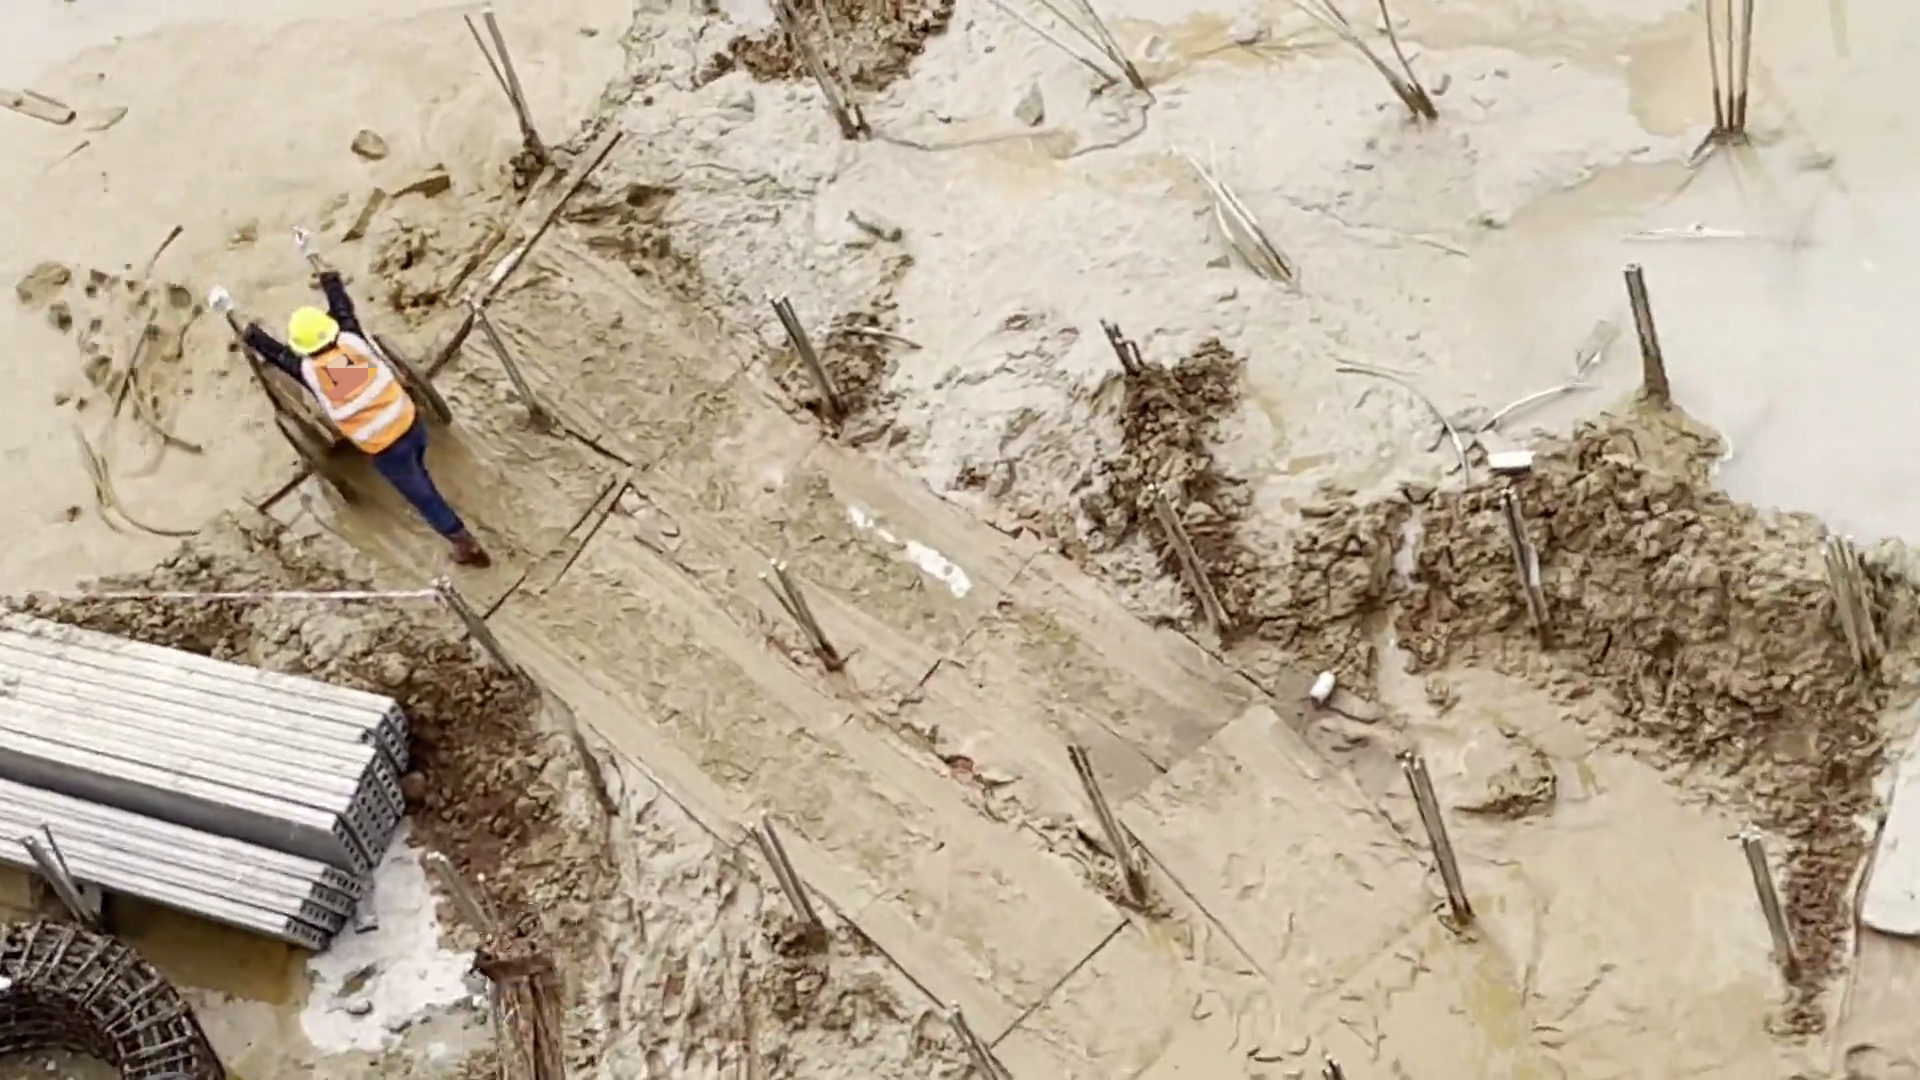helmet: (281, 301, 347, 355)
person: (206, 239, 495, 575)
vest: (296, 347, 424, 455)
